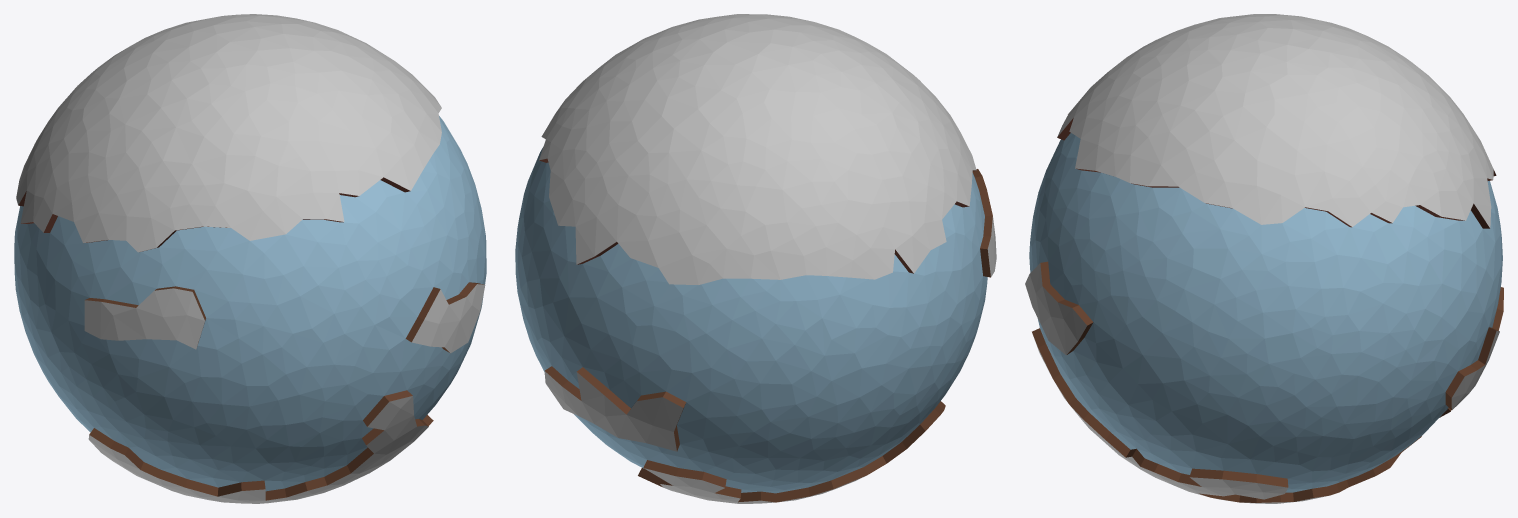
Rendered from PlanetIce.fbx.
3 renders of one model, left to right at view 1: azimuth 30°, elevation 25°; view 2: azimuth 150°, elevation 25°; view 3: azimuth 270°, elevation 25°, orthographic.
Visible parts, largest first — view 1: Planet Ice; view 2: Planet Ice; view 3: Planet Ice.
Part boxes in pixels (x1,y1,x2,y2): Planet Ice: [14, 14, 486, 503]; Planet Ice: [515, 14, 996, 503]; Planet Ice: [1025, 14, 1503, 503].
Size of the model in its own units: 239 by 247 by 242.
